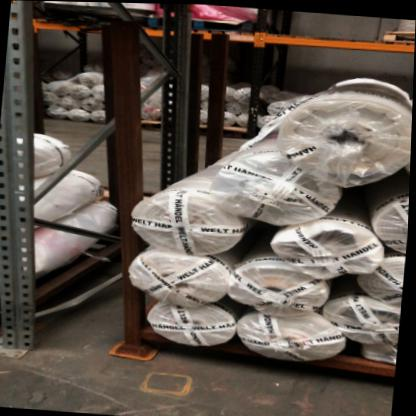vertical_damage: (1, 293, 51, 362)
